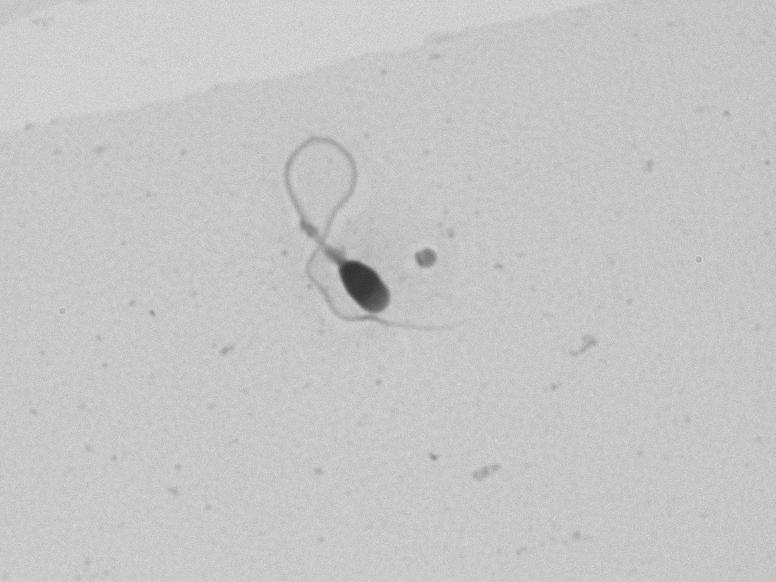Abnormal: (203, 115, 482, 376)
